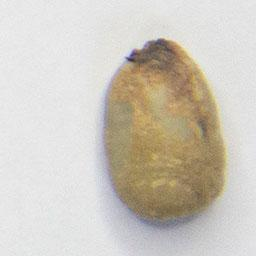defect: (100, 35, 230, 225)
